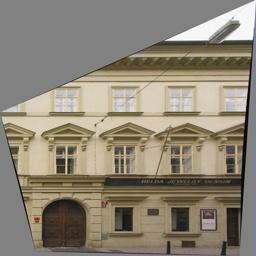building: (0, 39, 256, 243)
